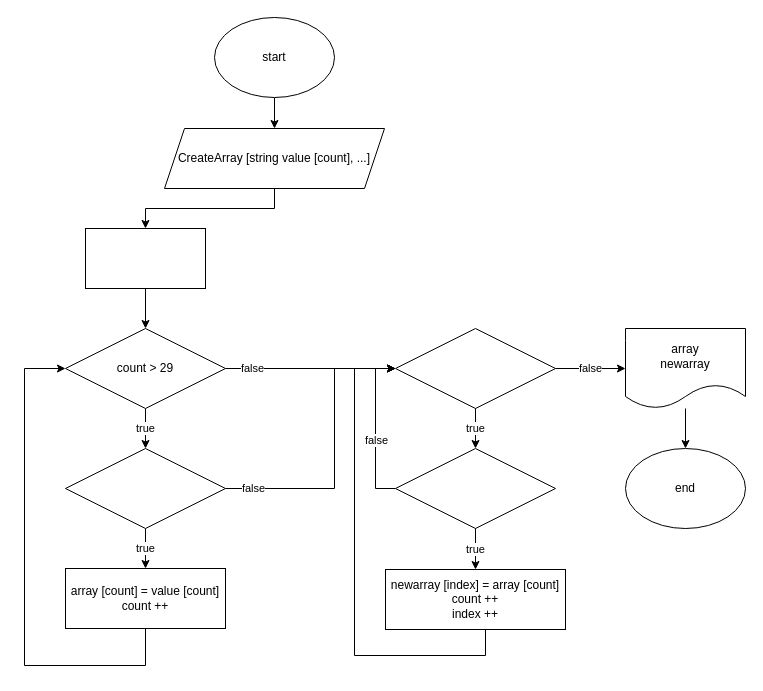
Image size: 763x691. Some labels were removed from this diagram. Here are the shapes that lost their labels. From the top down, the centre of each, then its label:
[145,258]: count = 0 index = 0
[475,368]: array.Length <= count
[145,488]: value != "end"
[475,488]: array [index] <= 3
